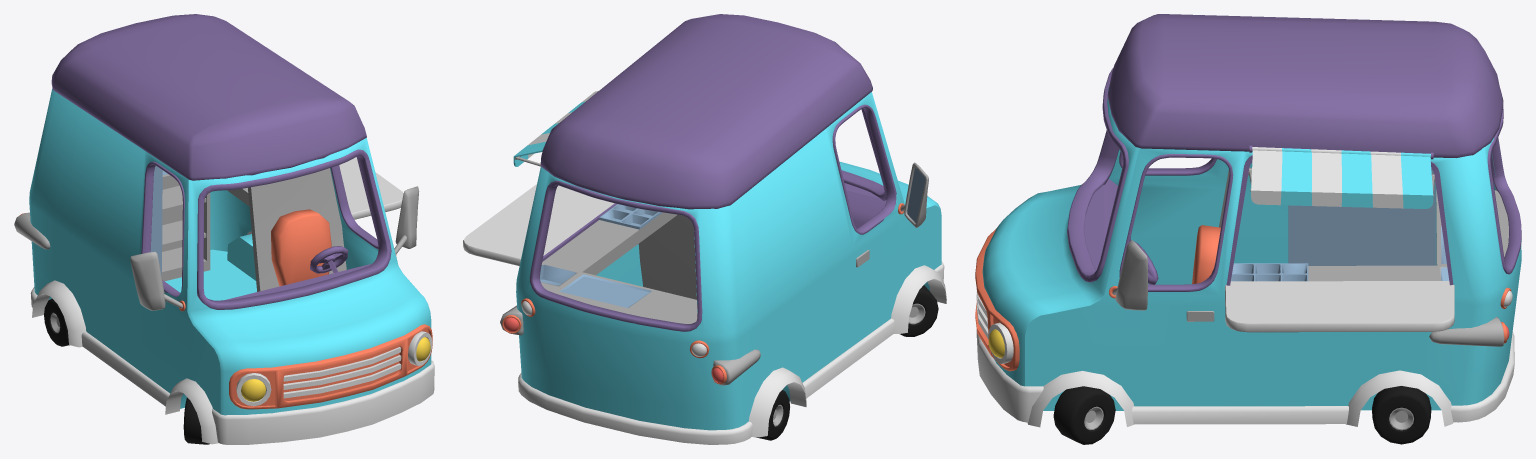
Rendered from FoodTruck.fbx.
The picture shows the model from 3 angles, left to right: view 1: azimuth 30°, elevation 25°; view 2: azimuth 150°, elevation 25°; view 3: azimuth 270°, elevation 25°; orthographic projection. The views are drawn at different scales.
Visible parts, largest first — view 1: FoodTruck; view 2: FoodTruck; view 3: FoodTruck.
Part boxes in pixels (<box>): FoodTruck: <box>14,14,434,444</box>; FoodTruck: <box>463,14,946,444</box>; FoodTruck: <box>975,14,1521,444</box>.
Size of the model in its own units: 3.49 by 3.03 by 4.44.
